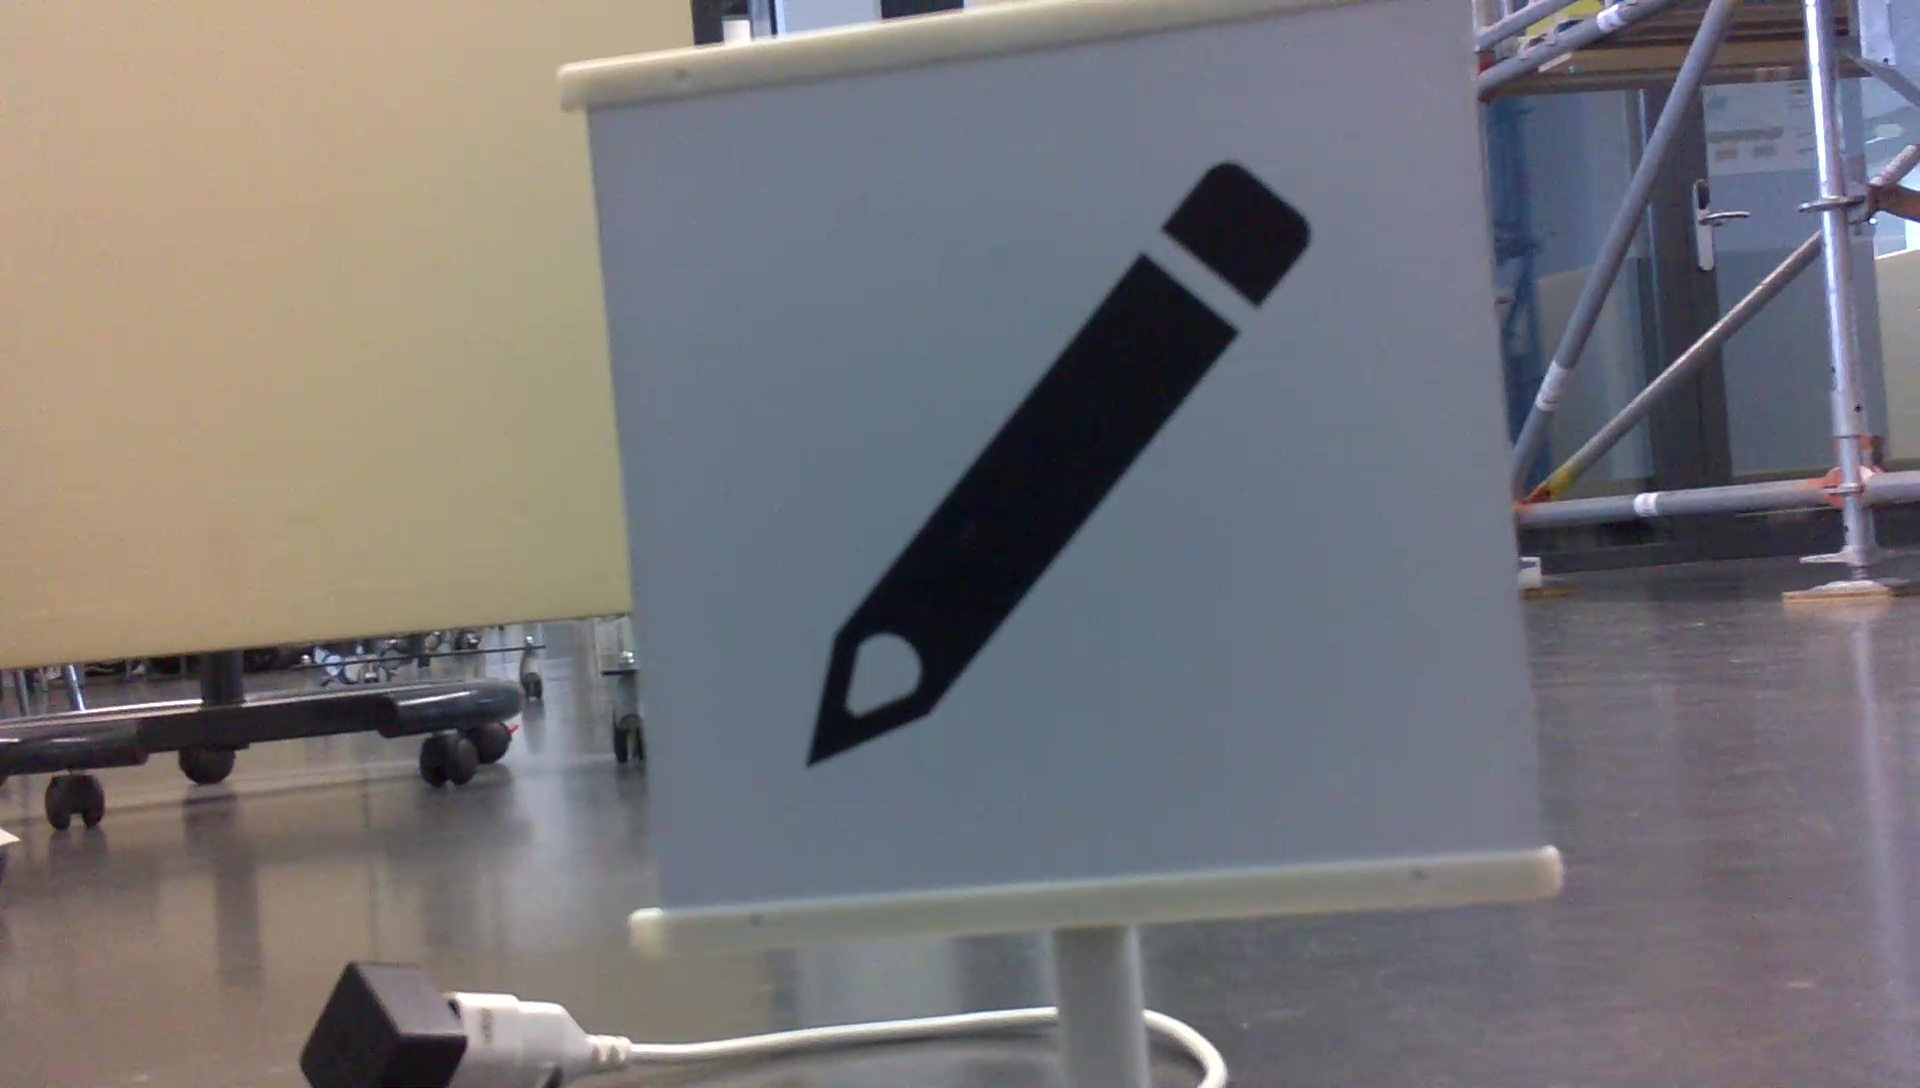pencil: (782, 145, 1323, 787)
